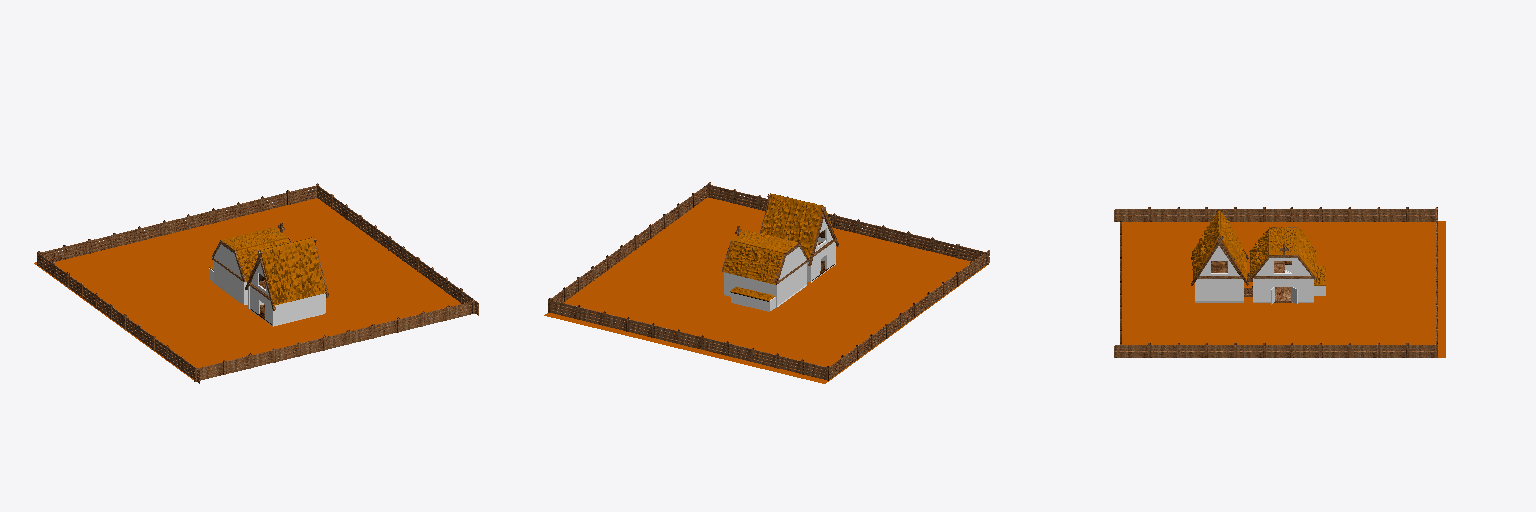
The picture shows the model from 3 angles: view 1: azimuth 30°, elevation 25°; view 2: azimuth 150°, elevation 25°; view 3: azimuth 270°, elevation 25°; orthographic projection.
Visible parts, largest first — view 1: floor_Plane.002, girðing4_Plane.021, girðing2_Plane.023, girðing1_Plane.021, girðing3_Plane.022, Plane.015, Plane.017, Cube.015_Cube.041, Cube.021_Cube.047; view 2: floor_Plane.002, girðing2_Plane.023, girðing4_Plane.021, girðing1_Plane.021, girðing3_Plane.022, Plane.019, Plane.009_Plane.010, Plane.018, Cube.021_Cube.047, Plane.006_Plane.009, Cube.003; view 3: floor_Plane.002, girðing3_Plane.022, girðing1_Plane.021, Cube.020_Cube.046, Cube.010_Cube.036, Cube.018_Cube.074, Plane.015.
Part boxes in pixels (x1,y1,x2,y2): floor_Plane.002: (34,198,465,379); girðing4_Plane.021: (194,299,474,381); girðing2_Plane.023: (39,185,316,261); girðing1_Plane.021: (37,251,199,383); girðing3_Plane.022: (316,183,478,315); Plane.015: (283,238,325,300); Plane.017: (261,246,294,305); Cube.015_Cube.041: (272,293,325,326); Cube.021_Cube.047: (214,261,244,304); floor_Plane.002: (544,197,986,383); girðing2_Plane.023: (550,300,827,380); girðing4_Plane.021: (708,183,988,264); girðing1_Plane.021: (827,250,989,380); girðing3_Plane.022: (548,182,710,312); Plane.019: (782,199,822,259); Plane.009_Plane.010: (723,241,762,278); Plane.018: (761,194,791,238); Cube.021_Cube.047: (776,263,806,307); Plane.006_Plane.009: (754,249,783,284); Cube.003: (724,272,775,296); floor_Plane.002: (1122,221,1445,357); girðing3_Plane.022: (1114,343,1437,357); girðing1_Plane.021: (1114,207,1437,221); Cube.020_Cube.046: (1197,279,1241,302); Cube.010_Cube.036: (1253,278,1313,302); Cube.018_Cube.074: (1256,258,1310,275); Plane.015: (1192,220,1219,279).
Size of the model in its own units: 99.79 by 23.01 by 101.
Materials: 12 (1 with a texture image).